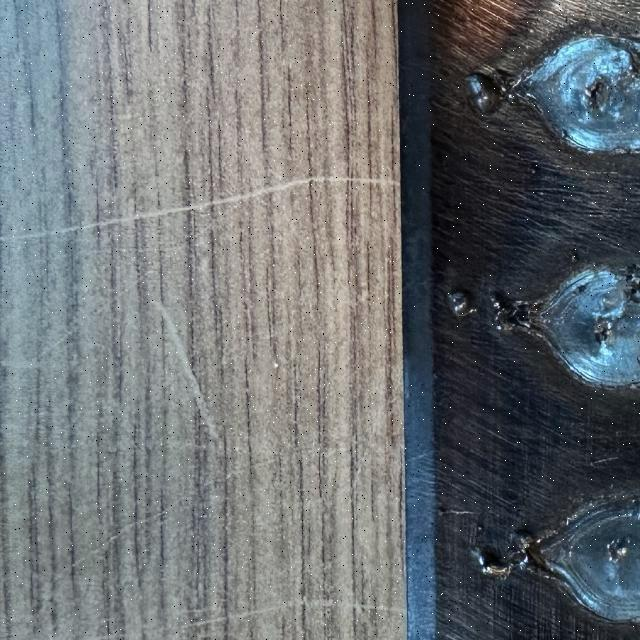Excess Reinforcement: (510, 532, 552, 579), (510, 300, 546, 338), (498, 68, 532, 101), (478, 523, 484, 534)
Spatters: (471, 545, 515, 580), (466, 73, 502, 113), (490, 292, 520, 332), (448, 292, 475, 316), (529, 163, 538, 174)
